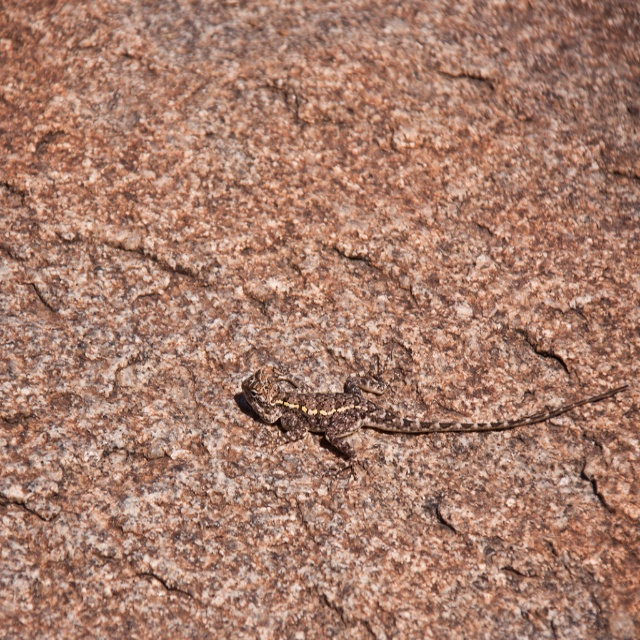Lizard: (238, 356, 603, 487)
